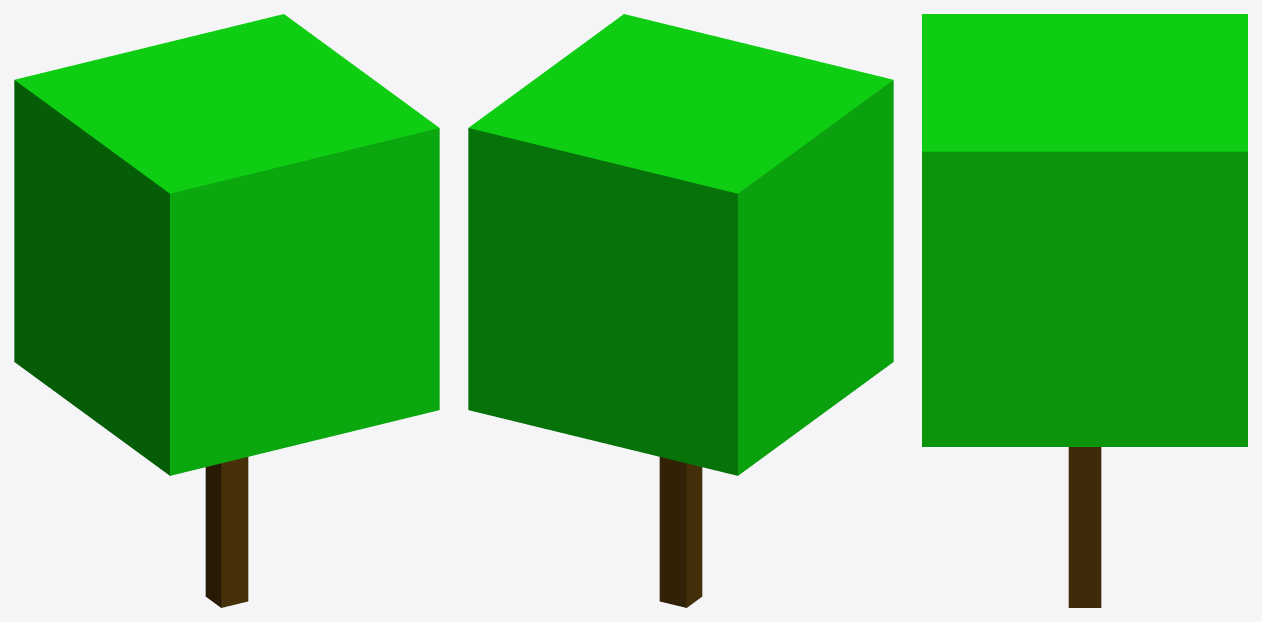
The model's file is cubes tree.fbx.
The picture shows the model from 3 angles, left to right: view 1: azimuth 30°, elevation 25°; view 2: azimuth 150°, elevation 25°; view 3: azimuth 270°, elevation 25°; orthographic projection. The views are drawn at different scales.
Parts seen in each view (by area): view 1: Cube; view 2: Cube; view 3: Cube.
Boxes of the visible parts, left/top/right/bottom form: Cube: left=14, top=14, right=439, bottom=607; Cube: left=468, top=14, right=893, bottom=607; Cube: left=922, top=14, right=1247, bottom=607.
Size of the model in its own units: 141 by 248 by 141.
